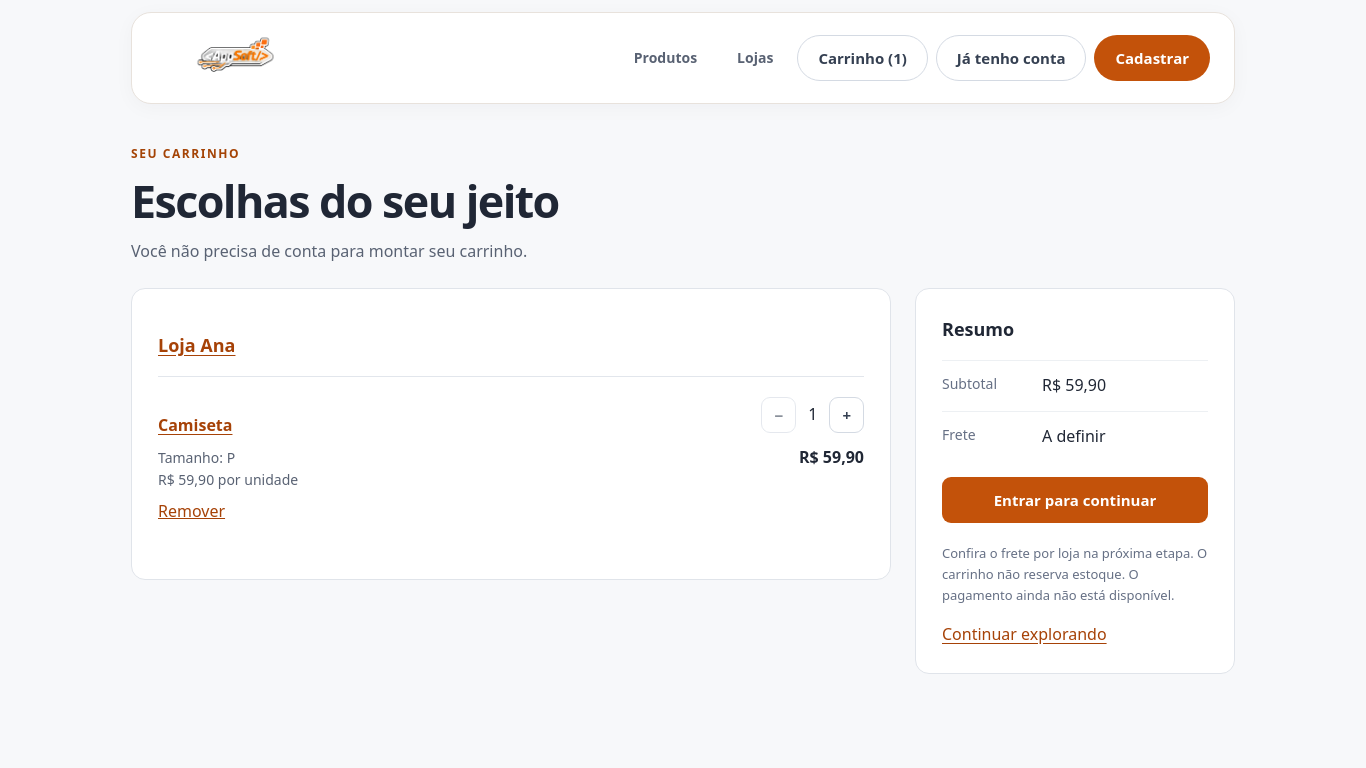
carrinho continua disponível após recarregar e permite remover
This screenshot has width=1366, height=768.
Click the button with aria-label "Remover Camiseta, tamanho P" at (192, 512), box top-left (158, 492), bottom-right (225, 533)
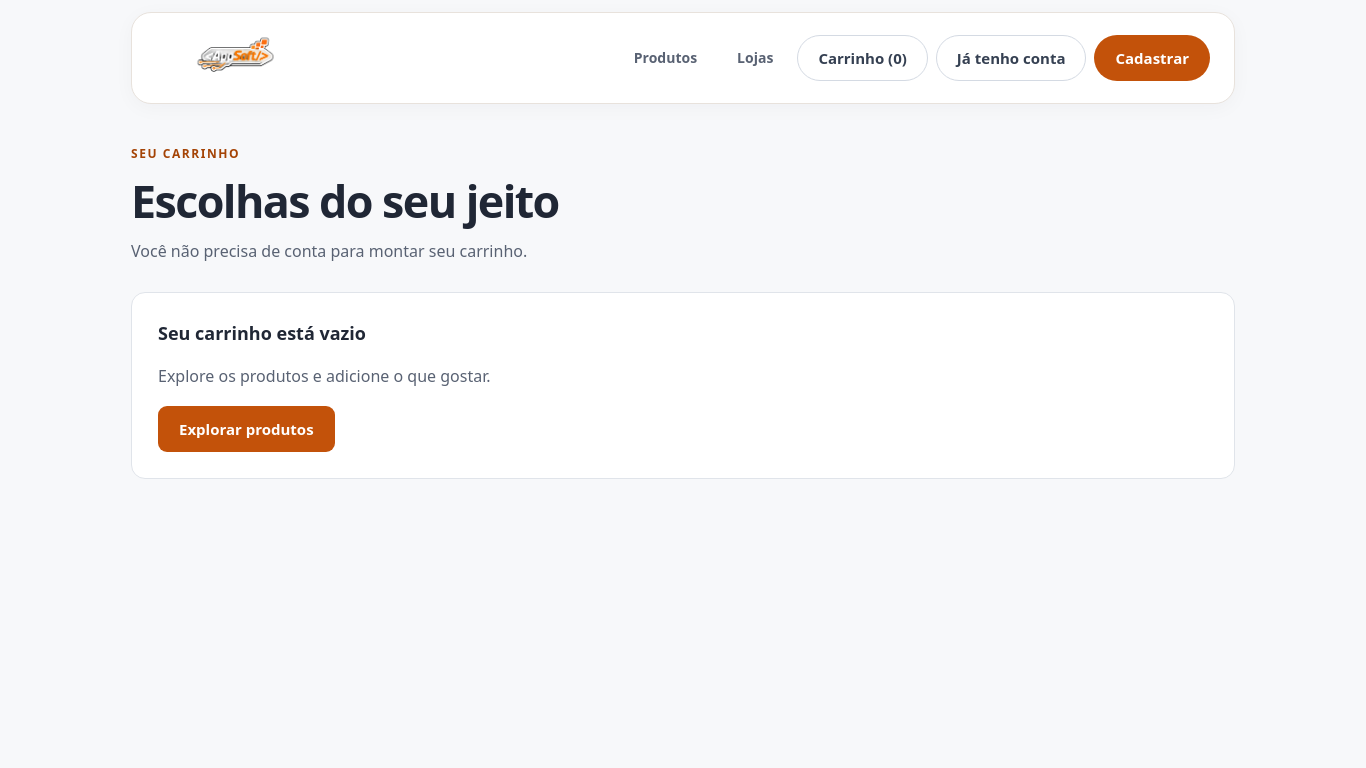
Check: the heading "Seu carrinho está vazio" is shown, box top-left (158, 321), bottom-right (366, 345)
